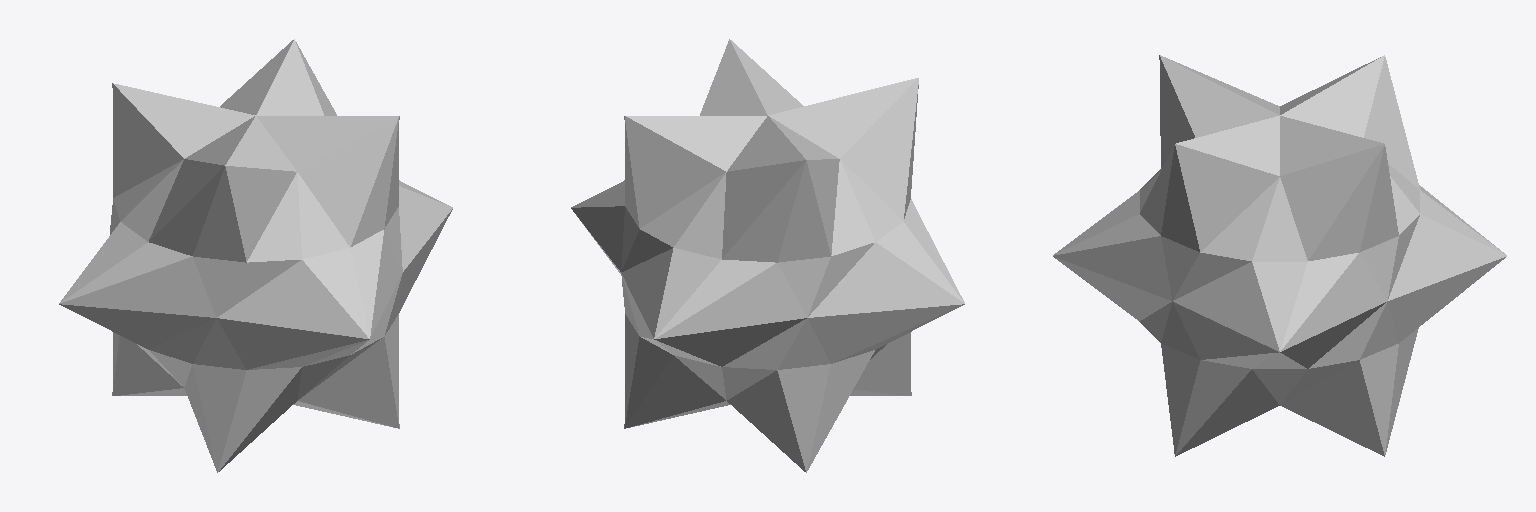
File: bullet2.obj
3 renders of one model, left to right at view 1: azimuth 30°, elevation 25°; view 2: azimuth 150°, elevation 25°; view 3: azimuth 270°, elevation 25°, orthographic.
Visible parts, largest first — view 1: Sphere; view 2: Sphere; view 3: Sphere.
Part boxes in pixels (left/top/right/bottom): Sphere: left=59, top=39, right=452, bottom=472; Sphere: left=571, top=39, right=964, bottom=472; Sphere: left=1053, top=55, right=1506, bottom=456.
Bounding box in the file's own units: 2.94 × 2.23 × 2.94.